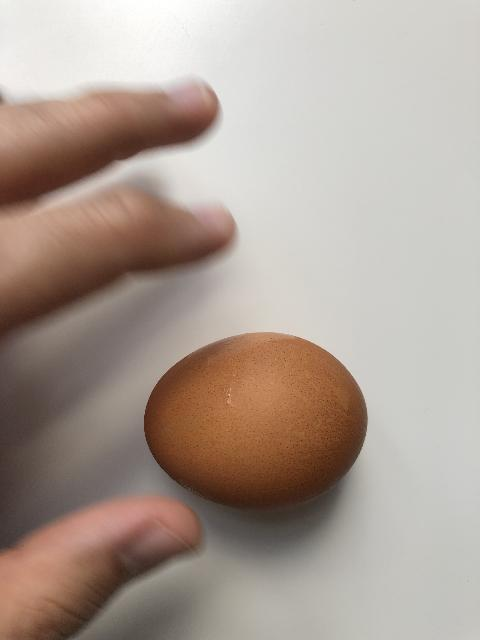Sano: (142, 330, 369, 511)
